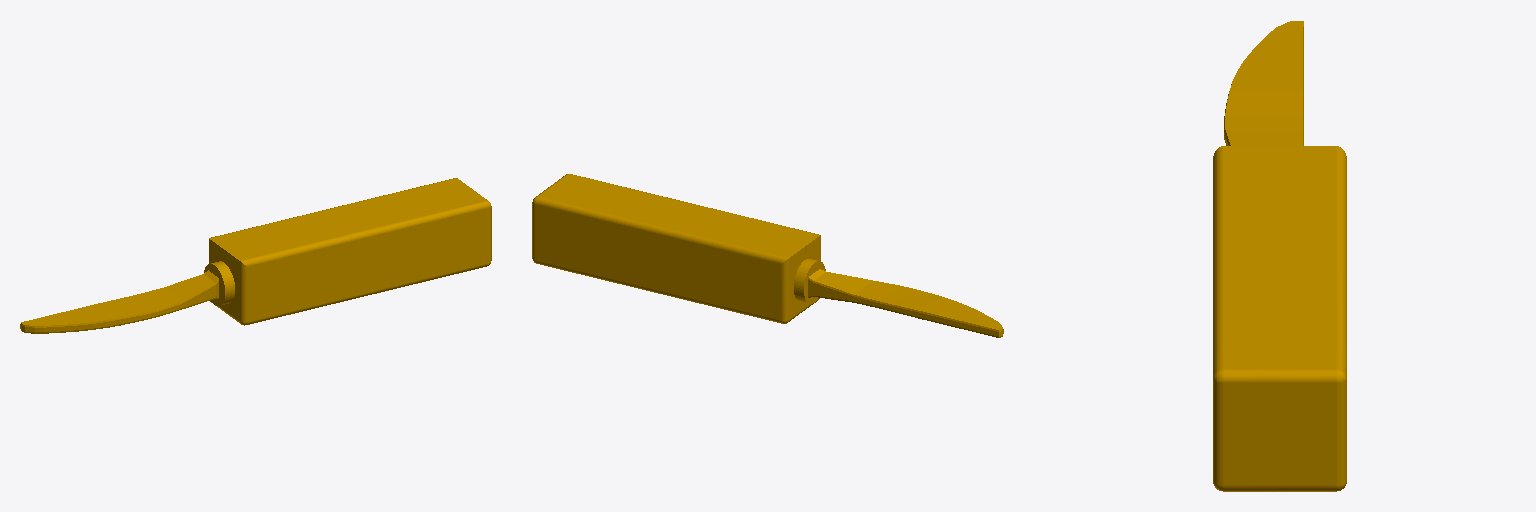
robot.urdf — fork:
<?xml version="1.0"?>
<robot name="fork">
  <link name="base_link">
    <visual>
      <origin xyz="0 0 0.0126" rpy="0 0 0"/>
      <geometry>
        <mesh filename="knife.stl" scale = "1 1 1"/>
      </geometry>
      <material name="brown">
        <color rgba="0.8 0.6 0 1.0" />
      </material>
    </visual>
    <collision>
      <origin xyz="0 0 0.0126" rpy="0 0 0"/>
      <geometry>
        <mesh filename="knife.stl" scale = "1 1 1"/>
      </geometry>
    </collision>
   </link>
</robot>

--- Facts derived from the render (not from the file) ---
The picture shows the robot from 3 angles, left to right: view 1: azimuth 30°, elevation 25°; view 2: azimuth 150°, elevation 25°; view 3: azimuth 270°, elevation 25°; orthographic projection.
Robot: fork — 1 links, 0 joints (none); root link base_link; default pose: all joints at 0.
Links seen in each view (by area): view 1: base_link; view 2: base_link; view 3: base_link.
Boxes of the visible links, x1,y1,x2,y2 form: base_link: [20, 178, 491, 333]; base_link: [532, 174, 1003, 337]; base_link: [1213, 21, 1346, 491].
Bounding box of the posed robot: 0.18 × 0.025 × 0.025 m (x, y, z).
1 mesh visuals loaded from 1 distinct referenced files (1 binary STL).